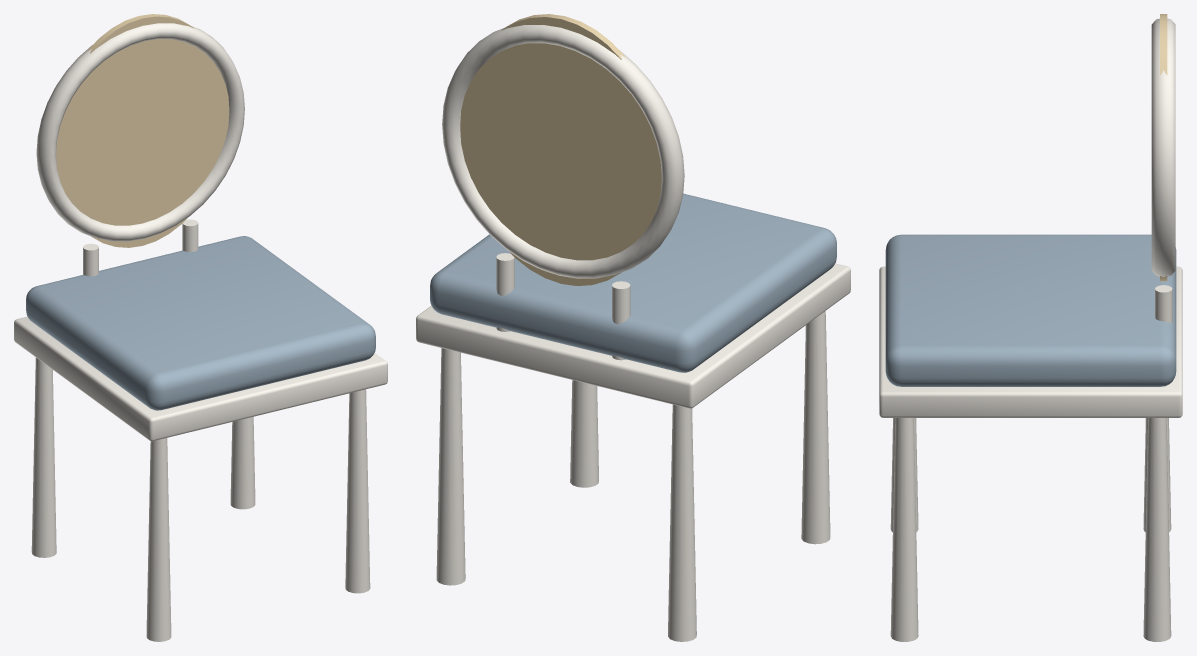
File: dining_chair.glb
3 views of the same model, side by side, from view 1: azimuth 30°, elevation 25°; view 2: azimuth 150°, elevation 25°; view 3: azimuth 270°, elevation 25° (orthographic). The views are drawn at different scales.
Visible parts, largest first — view 1: seat, cane, seatframe, oval, leg, leg.002, leg.001, leg.003, post.001; view 2: seat, cane, seatframe, oval, leg.001, leg.003, leg, leg.002, post, post.001; view 3: seat, seatframe, oval, leg.002, leg.003, leg, leg.001, post.001, cane.
Part boxes in pixels (x1=…): seat: x1=26, y1=236, x2=375, y2=410; cane: x1=56, y1=14, x2=229, y2=247; seatframe: x1=14, y1=316, x2=387, y2=441; oval: x1=36, y1=23, x2=244, y2=241; leg: x1=146, y1=438, x2=171, y2=641; leg.002: x1=345, y1=389, x2=370, y2=593; leg.001: x1=31, y1=357, x2=56, y2=557; leg.003: x1=230, y1=417, x2=255, y2=509; post.001: x1=182, y1=219, x2=198, y2=252; seat: x1=430, y1=193, x2=836, y2=372; cane: x1=460, y1=14, x2=661, y2=285; seatframe: x1=416, y1=263, x2=850, y2=408; oval: x1=442, y1=25, x2=684, y2=278; leg.001: x1=668, y1=404, x2=696, y2=641; leg.003: x1=436, y1=348, x2=465, y2=585; leg: x1=801, y1=311, x2=830, y2=544; leg.002: x1=570, y1=380, x2=598, y2=487; post: x1=612, y1=281, x2=630, y2=360; post.001: x1=496, y1=253, x2=514, y2=331; seat: x1=885, y1=234, x2=1176, y2=386; seatframe: x1=879, y1=266, x2=1182, y2=417; oval: x1=1151, y1=18, x2=1175, y2=277; leg.002: x1=890, y1=418, x2=918, y2=641; leg.003: x1=1143, y1=418, x2=1171, y2=641; leg: x1=890, y1=418, x2=918, y2=532; leg.001: x1=1143, y1=418, x2=1171, y2=532; post.001: x1=1155, y1=285, x2=1172, y2=323; cane: x1=1160, y1=14, x2=1167, y2=281.
Size of the model in its own units: 0.48 by 0.9787 by 0.48.
